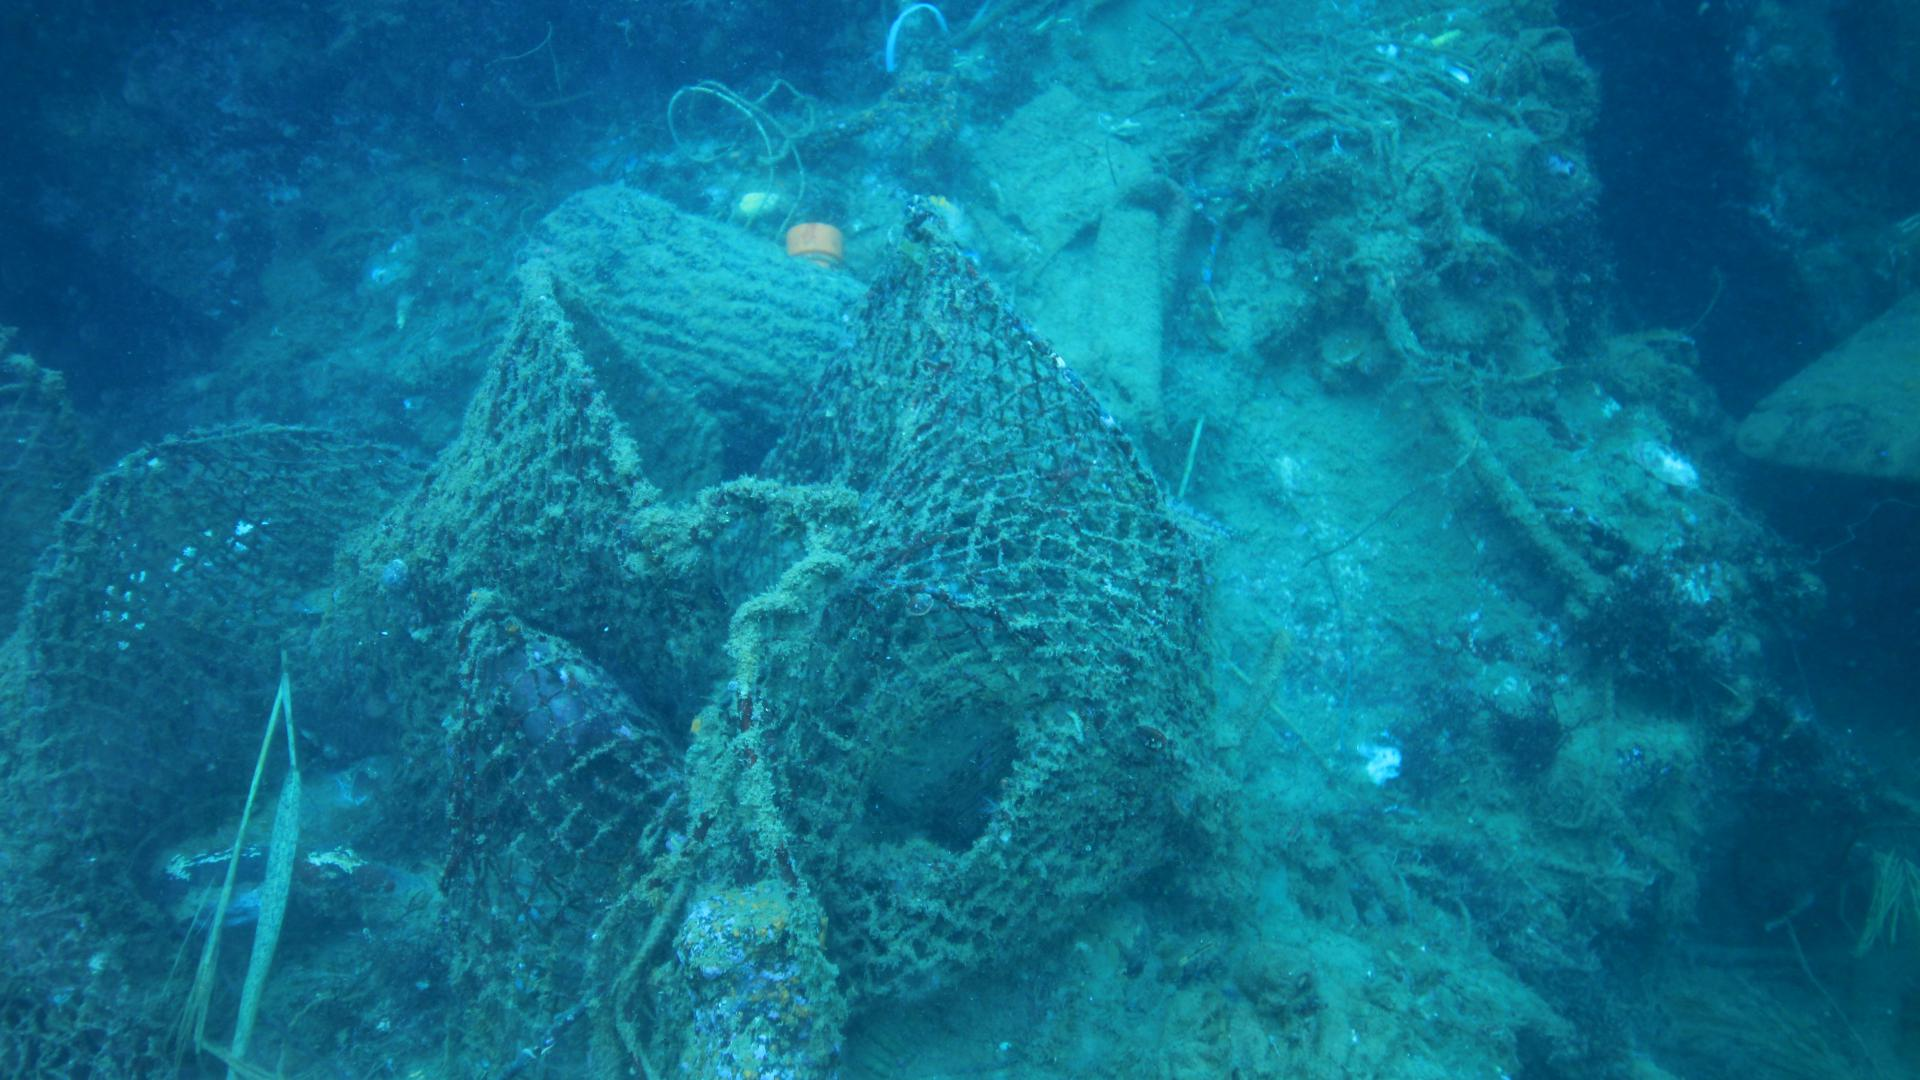fish net: (0, 185, 1213, 1080)
